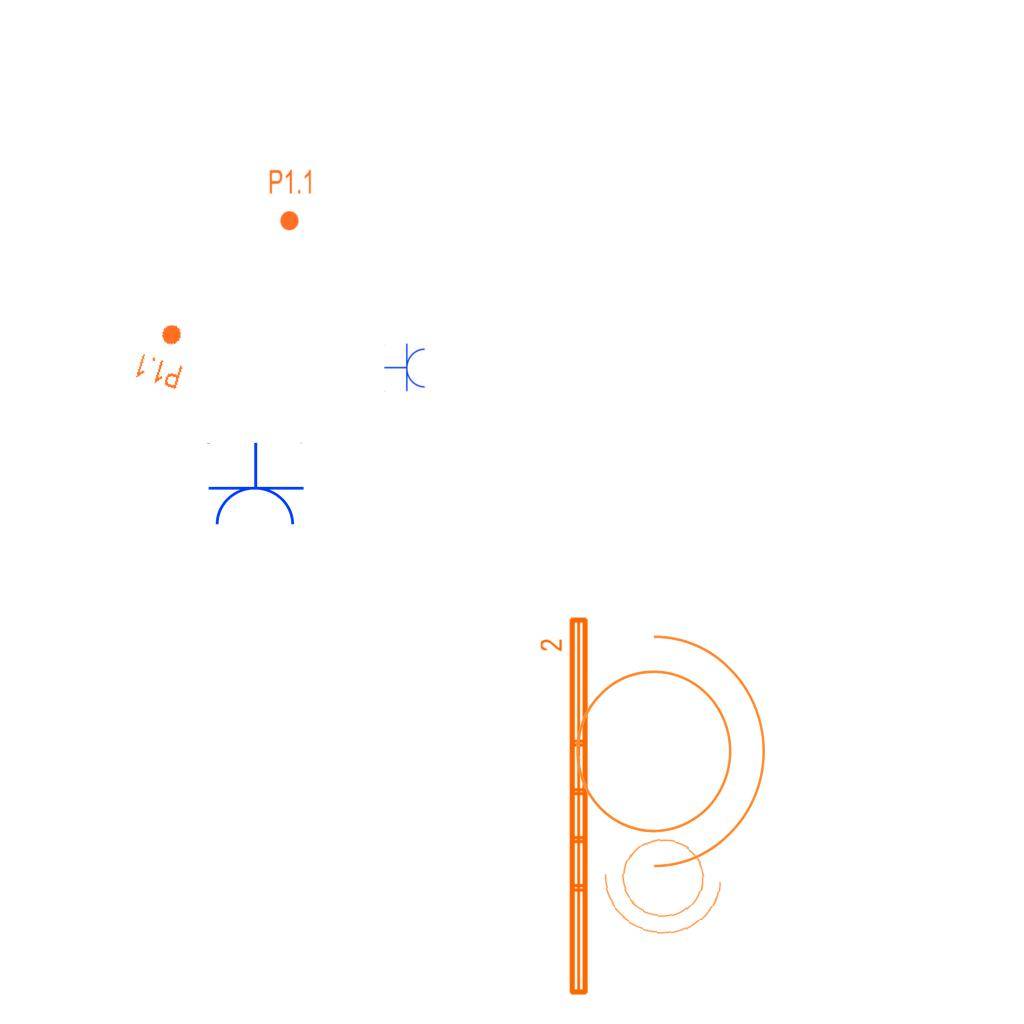Ambulanz_Pendelleuchte_LED: (538, 613, 594, 1000)
Downlight_LED_Einbauleuchten_Flur: (132, 316, 196, 392), (268, 168, 314, 232)
Scheinwerfer_fuer_Alarmbeleuchtung: (551, 613, 776, 877), (596, 822, 736, 944)
Schukosteckdose_einfach: (205, 442, 305, 529), (384, 343, 427, 393)
